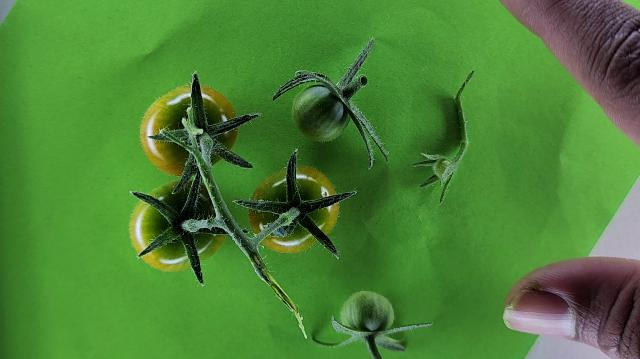Fruit Bud: (433, 158, 452, 180), (279, 208, 300, 227)
Fruit Maturation: (292, 84, 351, 142), (342, 291, 394, 334)
Fully Grown: (138, 83, 238, 177), (128, 178, 227, 271), (246, 164, 338, 253)
